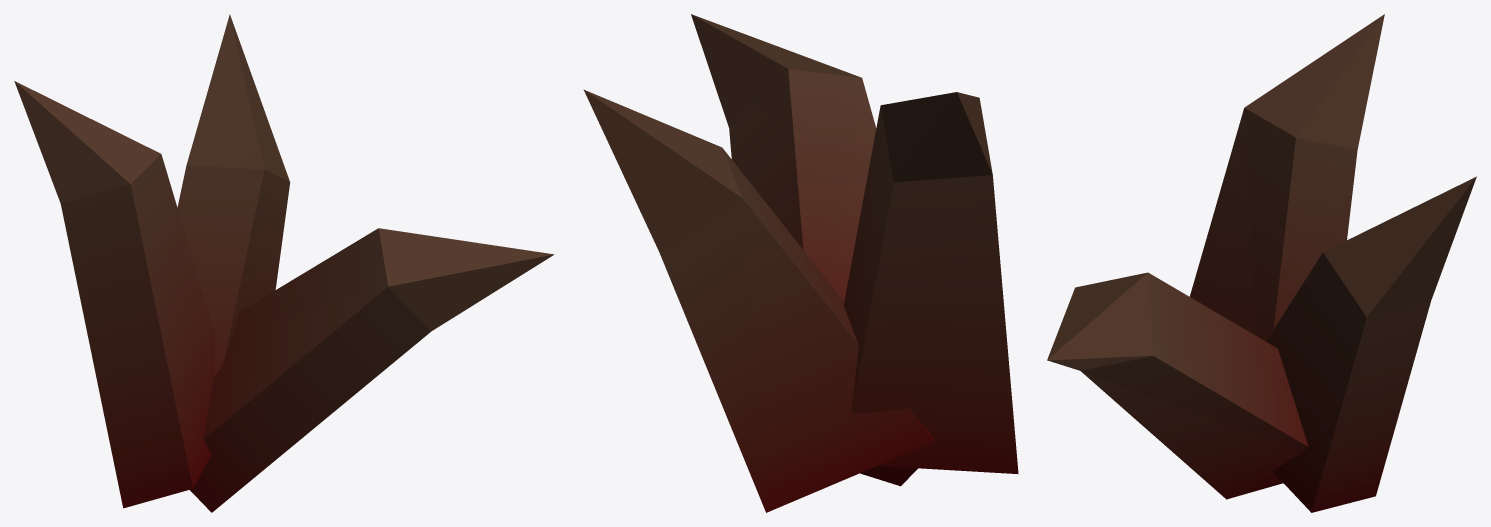
The model's file is synty-plant-grass-01.gltf.
The picture shows the model from 3 angles, left to right: view 1: azimuth 30°, elevation 25°; view 2: azimuth 150°, elevation 25°; view 3: azimuth 270°, elevation 25°; orthographic projection. The views are drawn at different scales.
Parts seen in each view (by area): view 1: SM_Plant_Grass_01; view 2: SM_Plant_Grass_01; view 3: SM_Plant_Grass_01.
Part boxes in pixels (bbox=[...]): SM_Plant_Grass_01: bbox=[14, 14, 554, 512]; SM_Plant_Grass_01: bbox=[583, 14, 1018, 512]; SM_Plant_Grass_01: bbox=[1047, 14, 1476, 512].
Bounding box in the file's own units: 2.99e-05 × 3.06e-05 × 2.82e-05.
Materials: 1 (1 with a texture image).
